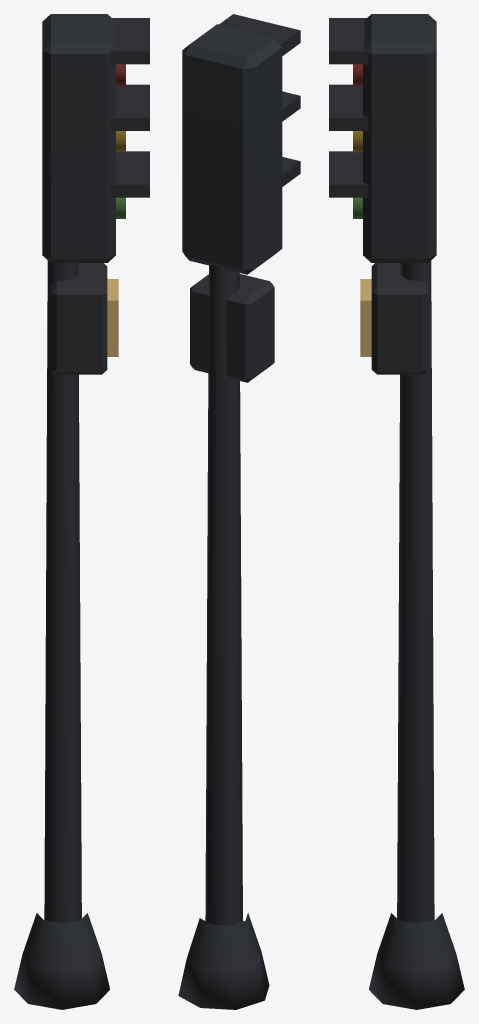
File: traffic-light.glb
3 views of the same model, side by side, from view 1: azimuth 90°, elevation 25°; view 2: azimuth 150°, elevation 25°; view 3: azimuth 270°, elevation 25° (orthographic).
Visible parts, largest first — view 1: traffic_light; view 2: traffic_light; view 3: traffic_light.
Part boxes in pixels (x1=…): traffic_light: x1=14, y1=14, x2=149, y2=1009; traffic_light: x1=178, y1=14, x2=300, y2=1009; traffic_light: x1=329, y1=14, x2=464, y2=1009.
Size of the model in its own units: 0.3399 by 3.75 by 0.48.
